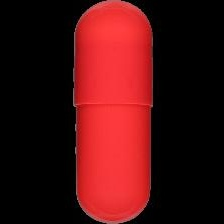55154-4957: (0, 0, 224, 224)
